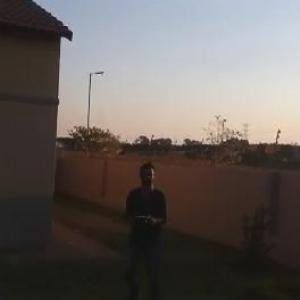follow: (117, 156, 176, 299)
